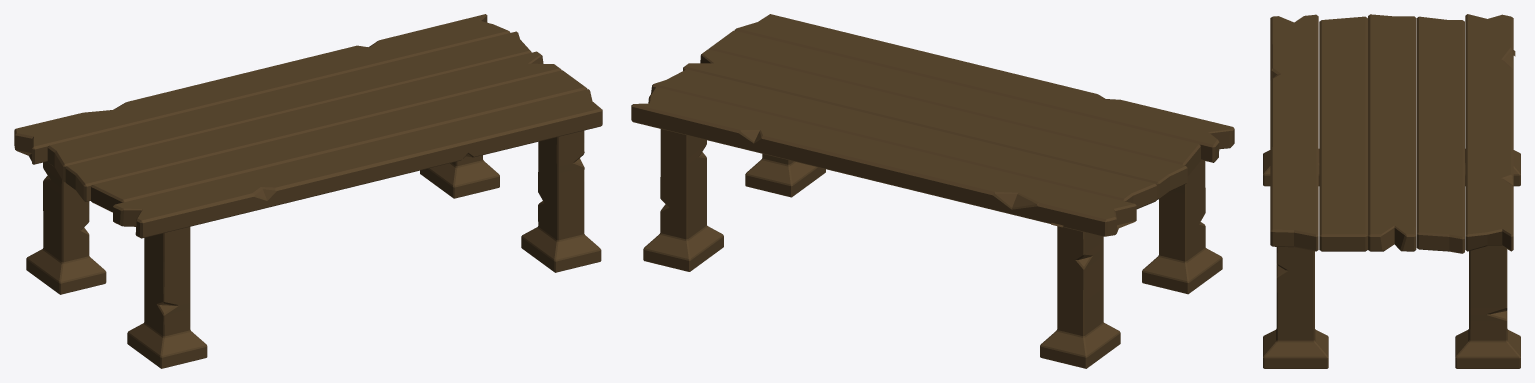
The model's file is Table.fbx.
3 views of the same model, side by side, from view 1: azimuth 30°, elevation 25°; view 2: azimuth 150°, elevation 25°; view 3: azimuth 270°, elevation 25° (orthographic). The views are drawn at different scales.
Visible parts, largest first — view 1: Table; view 2: Table; view 3: Table.
Boxes of the visible parts, bbox=[...] form: Table: bbox=[14, 14, 602, 368]; Table: bbox=[631, 14, 1234, 368]; Table: bbox=[1263, 14, 1520, 368].
Bounding box in the file's own units: 310 × 91.01 × 150.
